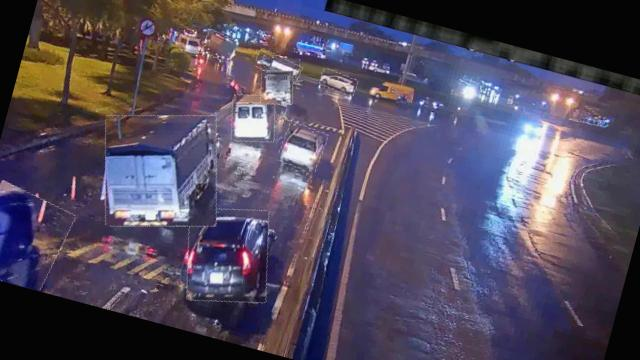Bus: (0, 179, 74, 293), (224, 88, 282, 148)
Car: (172, 196, 283, 314), (276, 121, 328, 173), (252, 49, 302, 83), (317, 68, 358, 96)
Truck: (86, 96, 234, 245), (255, 64, 298, 108), (200, 30, 238, 64)
